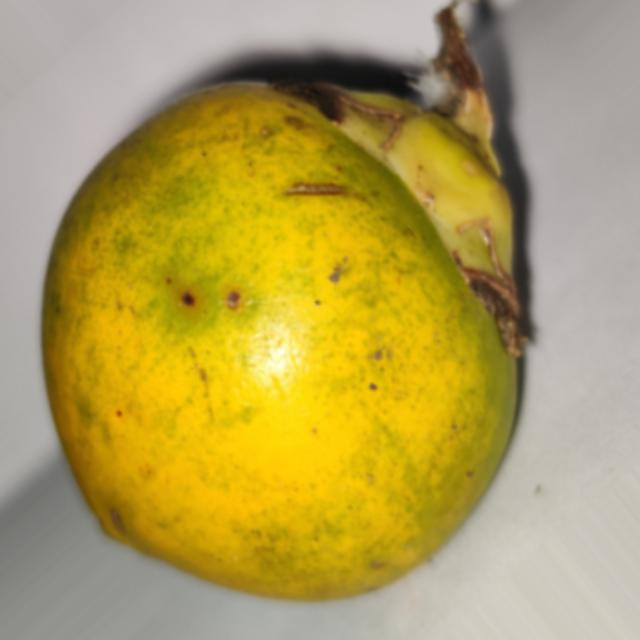damaged: (38, 37, 528, 605)
